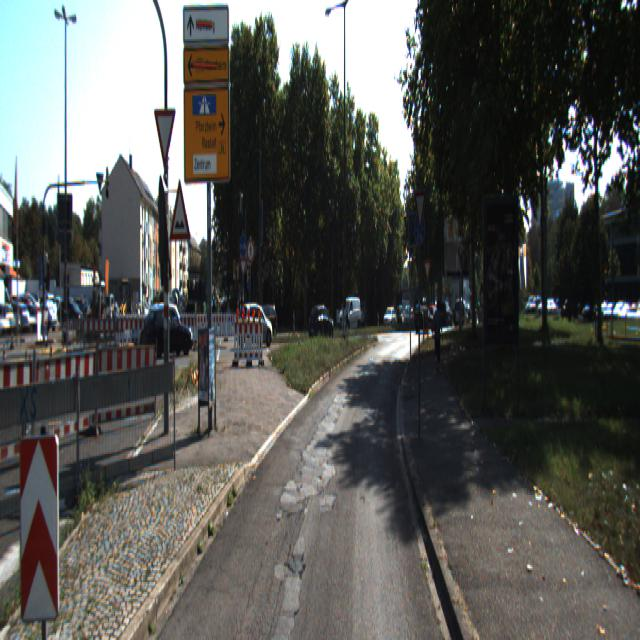Car: (143, 307, 193, 362), (237, 304, 273, 352), (308, 302, 335, 341), (338, 295, 362, 335)
